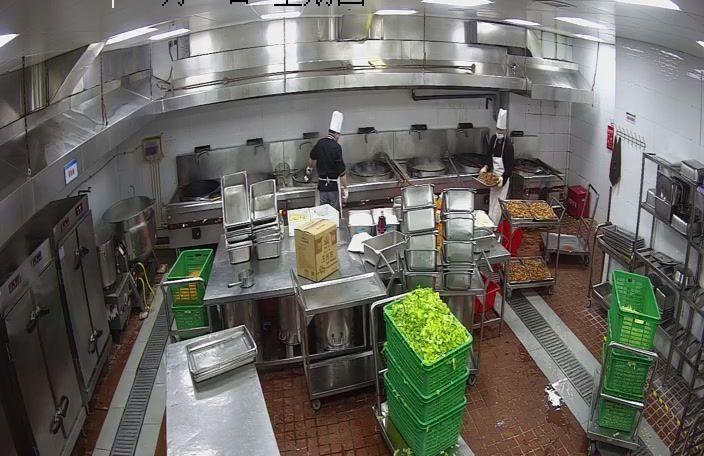mask: (494, 127, 508, 140)
